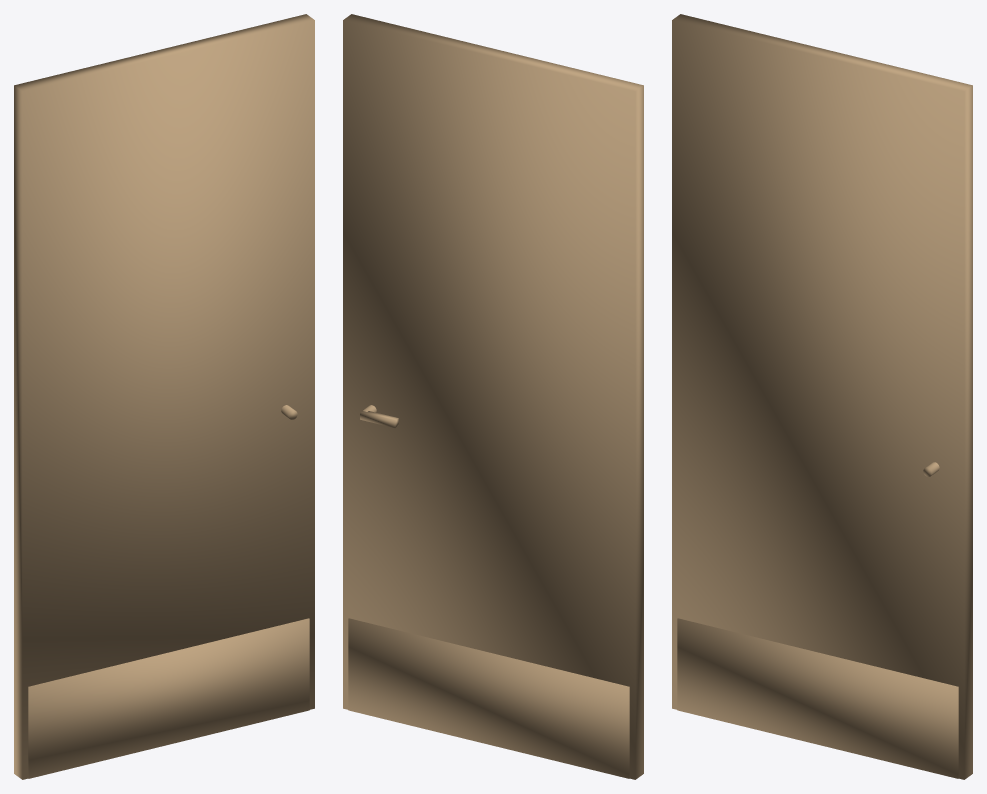
File: SM_Door_Leaf.fbx
The picture shows the model from 3 angles, left to right: view 1: azimuth 30°, elevation 25°; view 2: azimuth 150°, elevation 25°; view 3: azimuth 330°, elevation 25°; orthographic projection.
Parts seen in each view (by area): view 1: Cube; view 2: Cube; view 3: Cube.
Part boxes in pixels (box(x1,y1,x2,y2)): Cube: box(14, 14, 314, 779); Cube: box(343, 14, 643, 779); Cube: box(672, 14, 972, 779).
Size of the model in its own units: 100 by 225 by 15.
